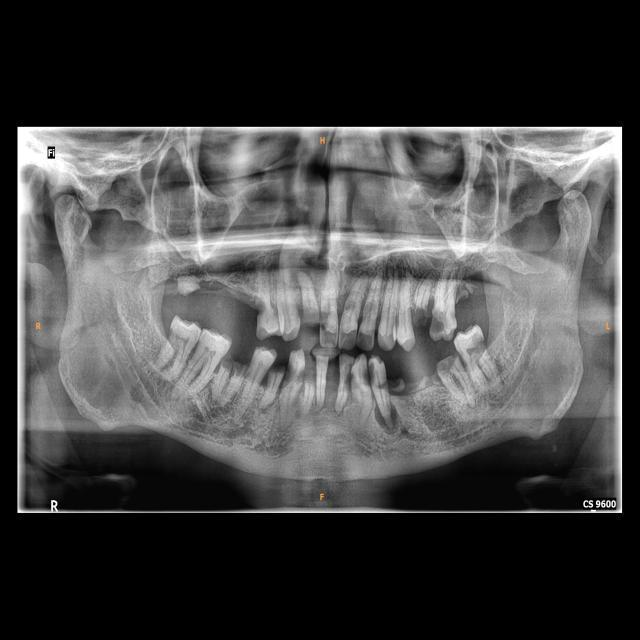kirik: (220, 344, 249, 394), (411, 298, 433, 337)
